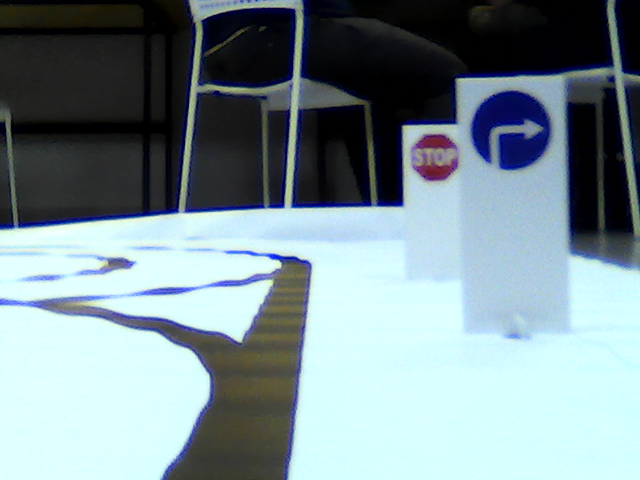Right: (470, 88, 554, 172)
Stop: (410, 134, 458, 178)
